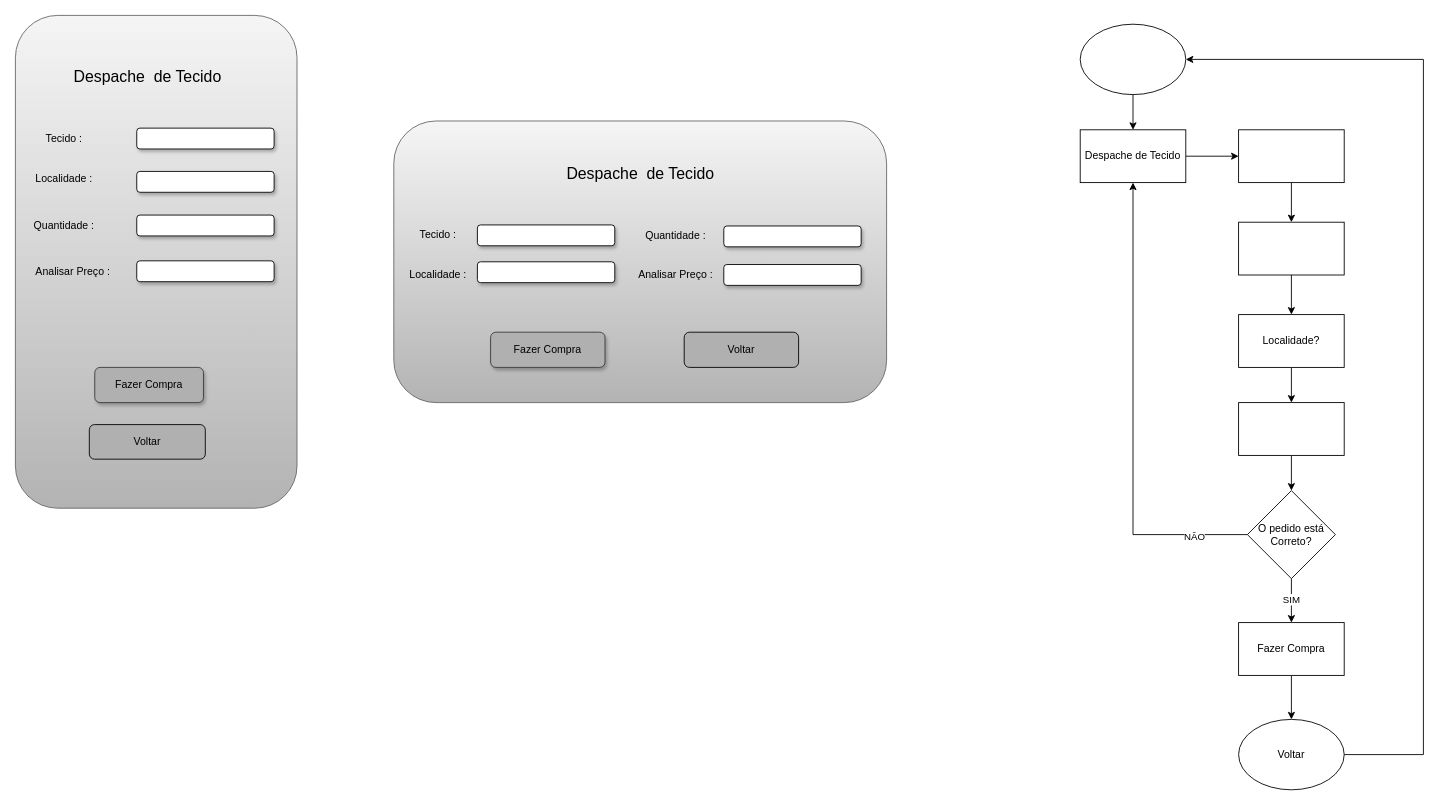
The diagram is 1446 pixels wide and 805 high, and some of its shapes have lost their labels. The centre of each missing label's shape, as x and y in pixels:
"Analisar Preço?" goes at point 1291,428.
"Início" goes at point 1132,59.
"Quantidade?" goes at point 1291,248.
"Tecido?" goes at point 1291,156.
